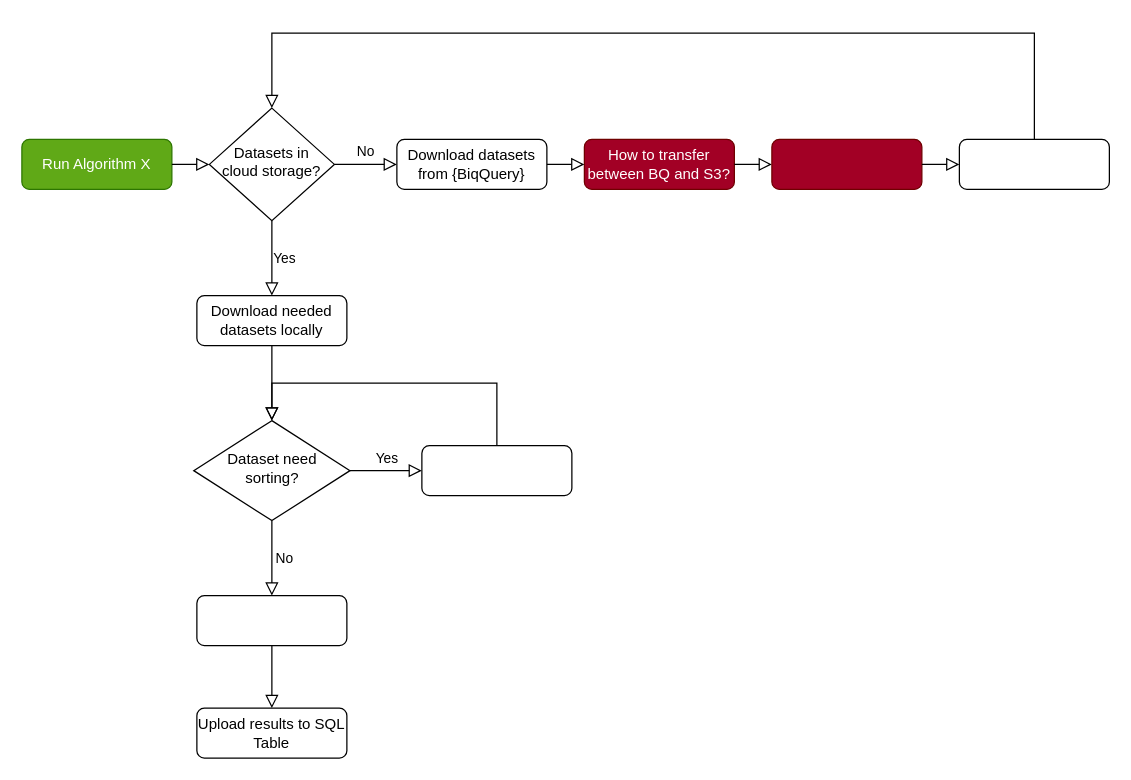
Some shapes in this 1131 by 780 pixel diagram are drawn without their labels. Each missing label, with the centre of its shape:
"Execute Algorithm X" belongs at (271,620).
"Run sorting algorithm" belongs at (496,470).
"Trim unneccesary columns?" belongs at (846,163).
"Upload datasets to {S3}" belongs at (1033,163).
